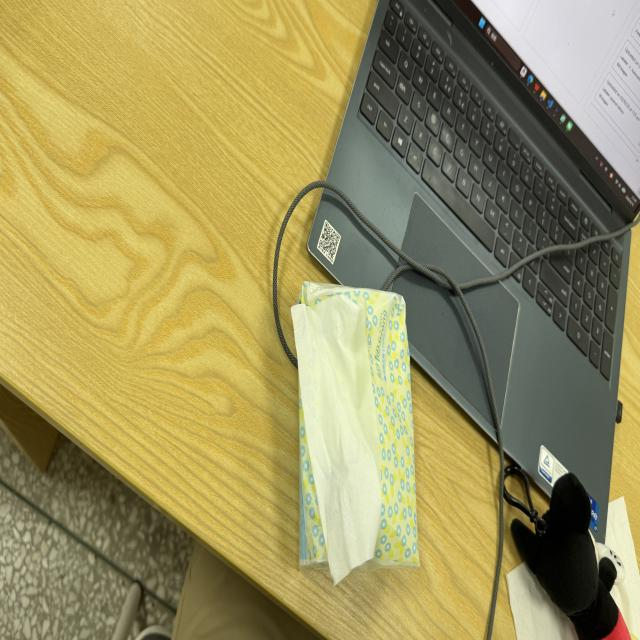mickey: (512, 474, 636, 639)
tissue: (297, 283, 419, 570), (292, 296, 380, 583), (606, 498, 639, 635)
